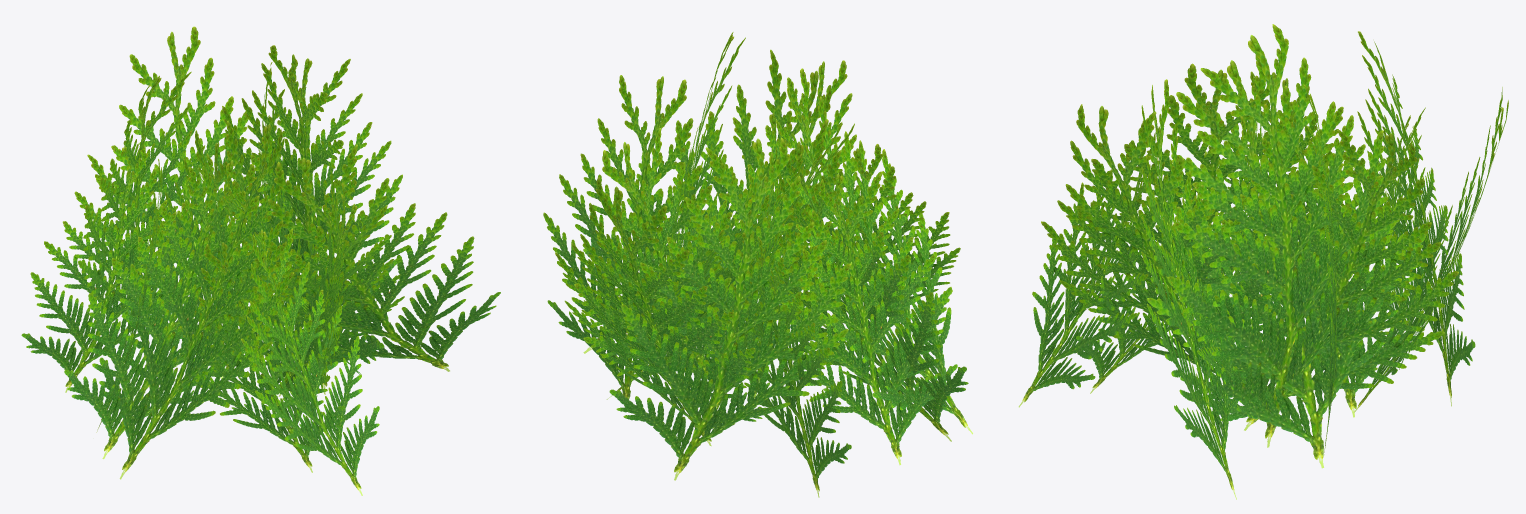
File: bush_04.glb
3 views of the same model, side by side, from view 1: azimuth 30°, elevation 25°; view 2: azimuth 150°, elevation 25°; view 3: azimuth 270°, elevation 25° (orthographic). The views are drawn at different scales.
Parts seen in each view (by area): view 1: env; view 2: env; view 3: env.
Part boxes in pixels (x1=…): env: x1=21, y1=26, x2=500, y2=495; env: x1=543, y1=32, x2=972, y2=497; env: x1=1018, y1=24, x2=1508, y2=499.
Size of the model in its own units: 1.28 by 1.1 by 1.21.
Materials: 1 (1 with a texture image).
